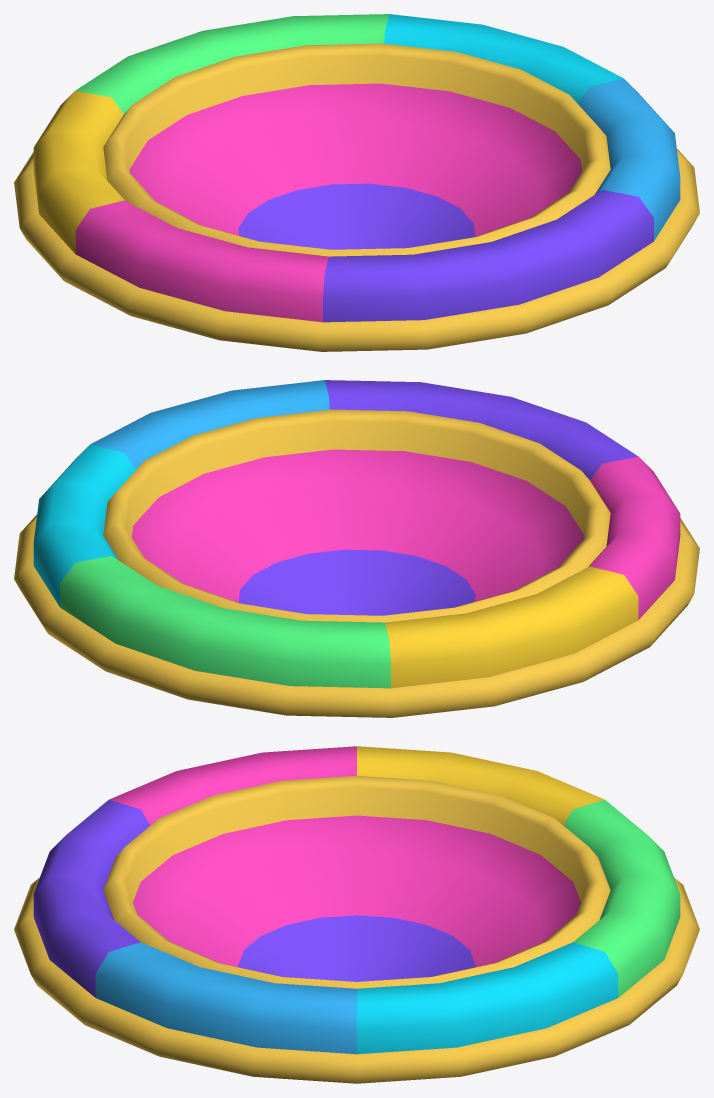
The model's file is core_02_fever_hole.glb.
3 views of the same model, one above another, from view 1: azimuth 30°, elevation 25°; view 2: azimuth 150°, elevation 25°; view 3: azimuth 270°, elevation 25° (orthographic).
Parts seen in each view (by area): view 1: CORE_02_FeverHole; view 2: CORE_02_FeverHole; view 3: CORE_02_FeverHole.
Part boxes in pixels (x1,y1,x2,y2): CORE_02_FeverHole: [14, 14, 699, 351]; CORE_02_FeverHole: [14, 380, 699, 717]; CORE_02_FeverHole: [14, 746, 699, 1083].
Size of the model in its own units: 2.08 by 0.44 by 2.08.
Materials: 1 (1 with a texture image).
